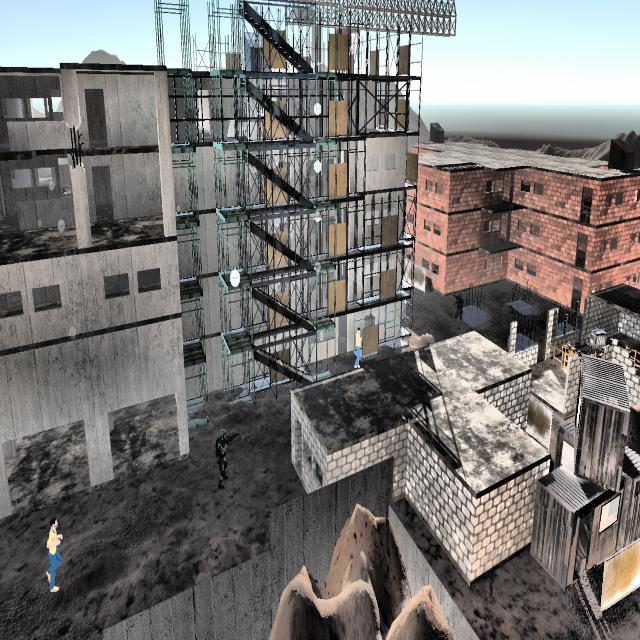bad: (208, 422, 239, 495), (449, 283, 468, 333)
good: (38, 514, 66, 598), (350, 325, 364, 371)
